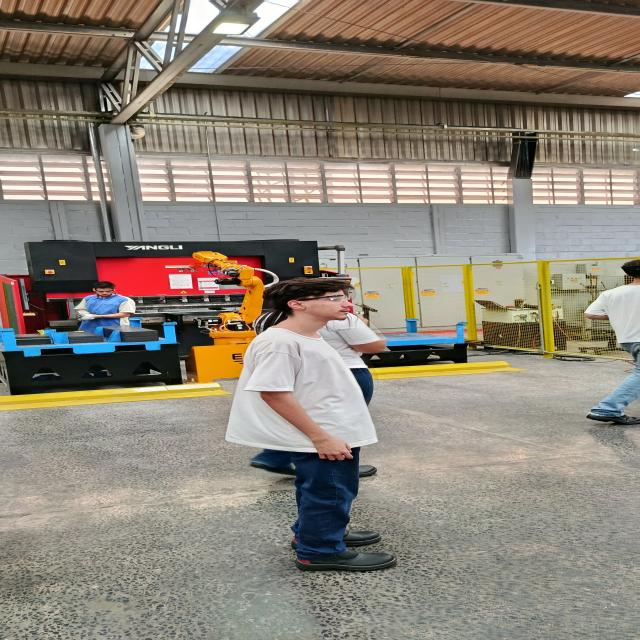oculos-epi: (298, 295, 351, 304), (95, 290, 114, 293)
